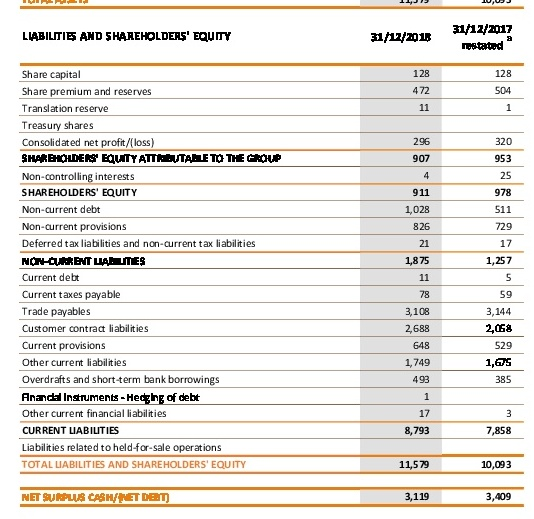table: (0, 0, 534, 519)
